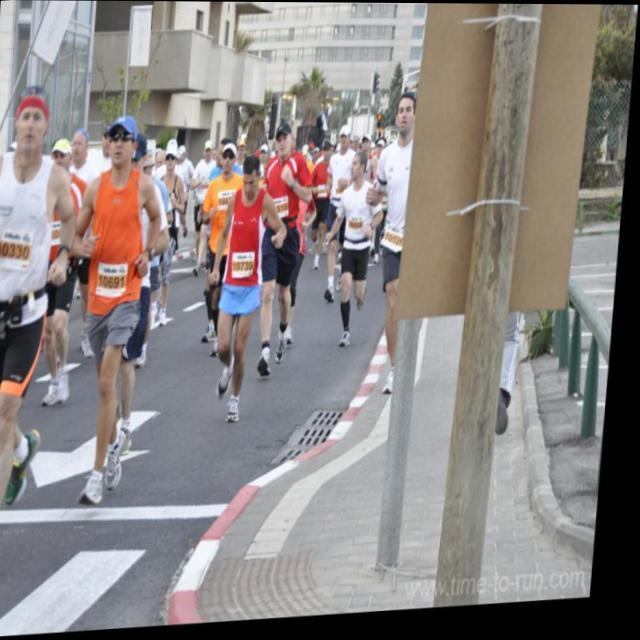dorsal: (0, 226, 39, 274), (98, 258, 136, 302), (234, 252, 261, 286)
